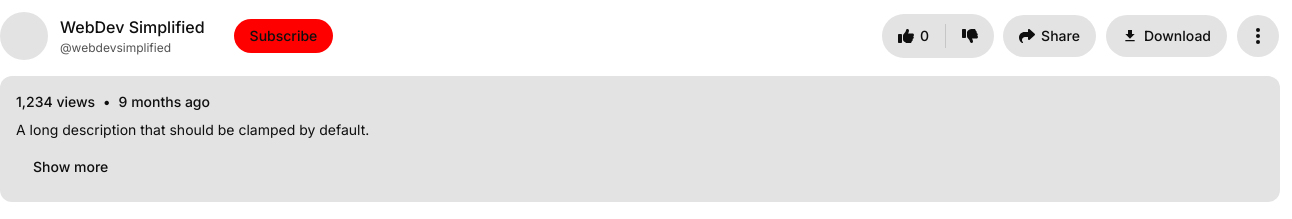
Test case: <DescriptionCard /> › expands the clamped description when 'Show more' is clicked, with no network request
Click the button "Show more" at x=71, y=167, box [16,148,125,186]
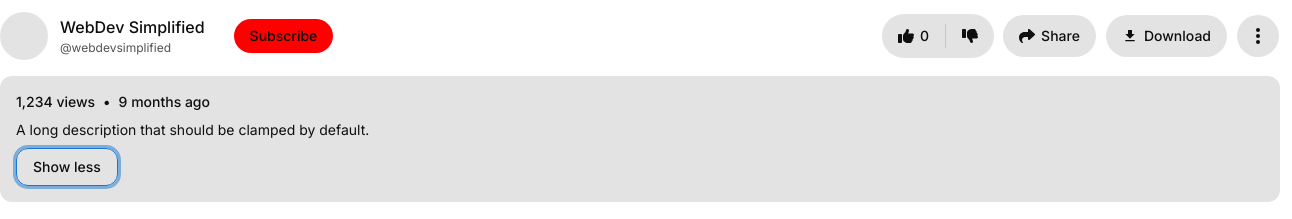
Check: the button "Show less" is shown, box [16,148,118,186]
